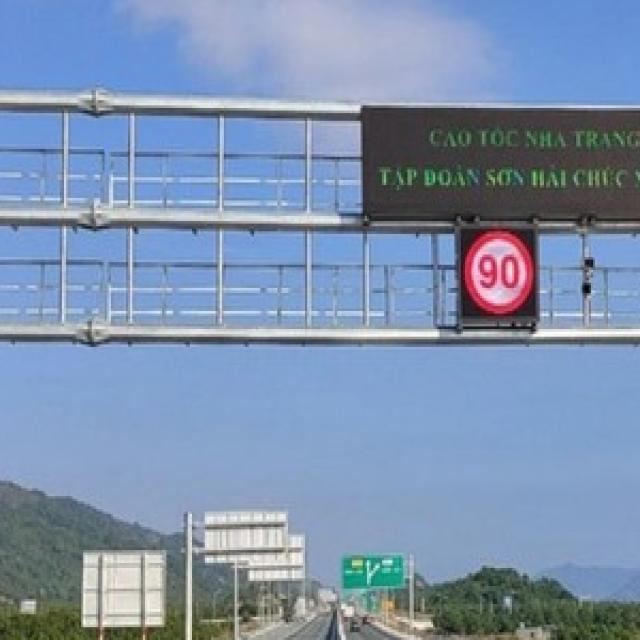Speed Limit -90-: (461, 228, 538, 325)
